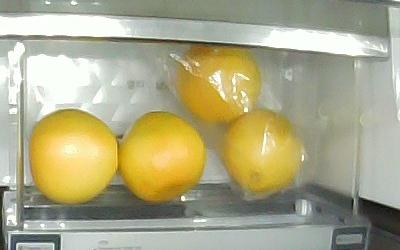grapefruit: (29, 109, 118, 205), (117, 112, 207, 203)
grapefruit_vinyl: (217, 109, 303, 192), (175, 45, 260, 126)
